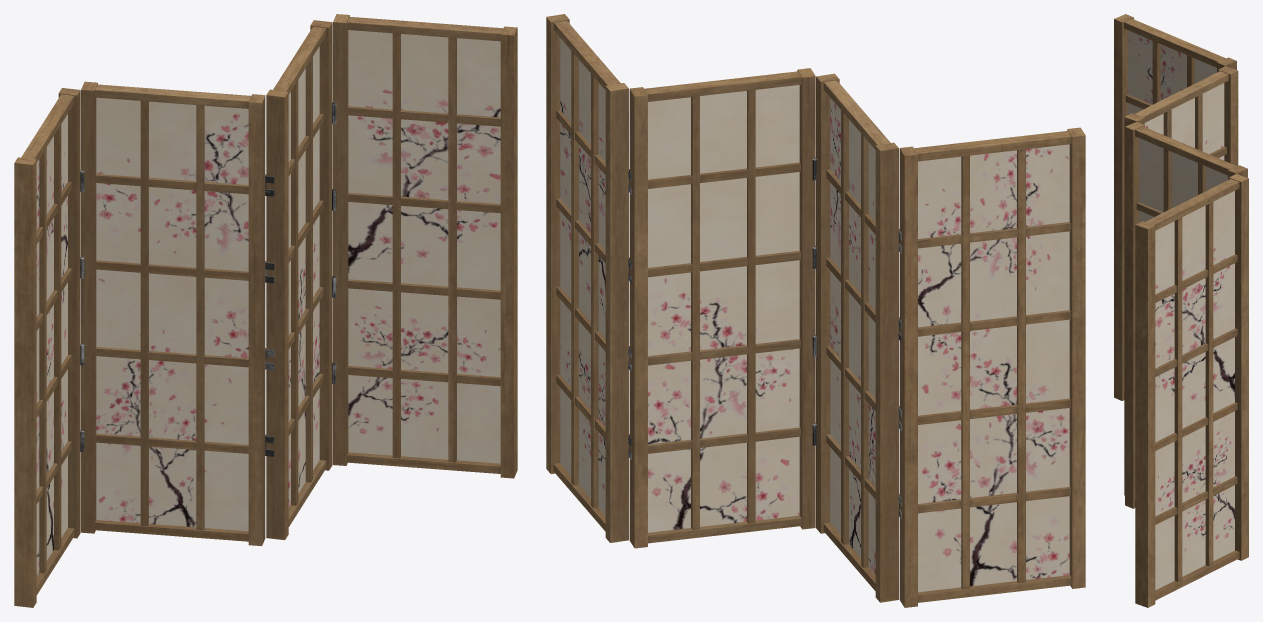
File: japanese_screen_divider_game_ready_asset.fbx
3 renders of one model, left to right at view 1: azimuth 30°, elevation 25°; view 2: azimuth 150°, elevation 25°; view 3: azimuth 270°, elevation 25°, orthographic. The views are drawn at different scales.
Parts seen in each view (by area): view 1: node_7e324f28_3915_4c83_abc9_5f12862450e1_mesh0; view 2: node_7e324f28_3915_4c83_abc9_5f12862450e1_mesh0; view 3: node_7e324f28_3915_4c83_abc9_5f12862450e1_mesh0.
Boxes of the visible parts, box(x1,y1,x2,y2) form: node_7e324f28_3915_4c83_abc9_5f12862450e1_mesh0: box(14, 14, 517, 607); node_7e324f28_3915_4c83_abc9_5f12862450e1_mesh0: box(546, 14, 1085, 607); node_7e324f28_3915_4c83_abc9_5f12862450e1_mesh0: box(1114, 14, 1248, 607).
Size of the model in its own units: 24510 by 20105 by 6492.
1 material, 1 textured.
